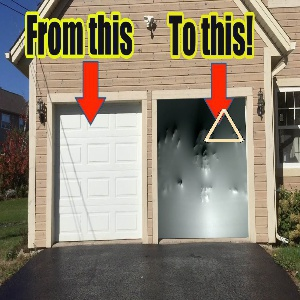triangle: (203, 107, 247, 145)
